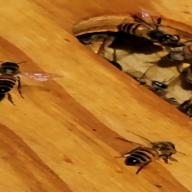Bee: (112, 129, 186, 171), (109, 15, 186, 49), (0, 52, 38, 105)
